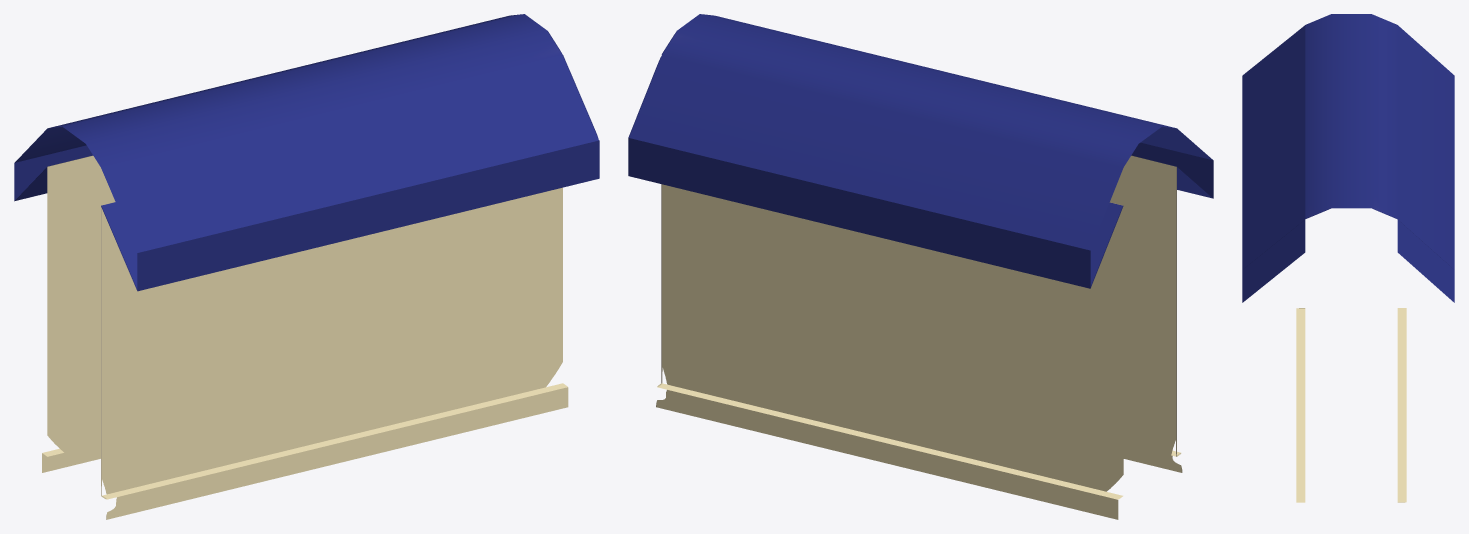
Rendered from Wall.fbx.
The picture shows the model from 3 angles, left to right: view 1: azimuth 30°, elevation 25°; view 2: azimuth 150°, elevation 25°; view 3: azimuth 270°, elevation 25°; orthographic projection. The views are drawn at different scales.
Parts seen in each view (by area): view 1: pCube1; view 2: pCube1; view 3: pCube1.
Boxes of the visible parts, x1=… form: pCube1: x1=14, y1=14, x2=599, y2=519; pCube1: x1=628, y1=14, x2=1213, y2=519; pCube1: x1=1242, y1=14, x2=1454, y2=502.
Bounding box in the file's own units: 5 × 3.73 × 2.31.
